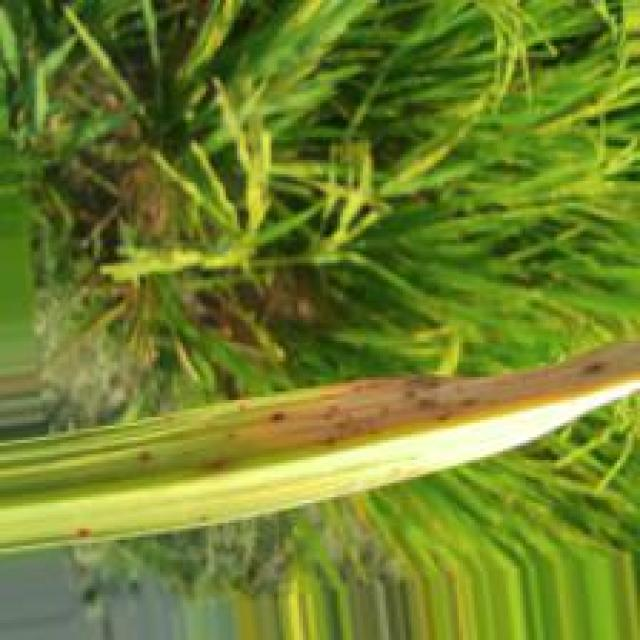Bacterial_Leaf_Blight: (179, 332, 638, 462)
